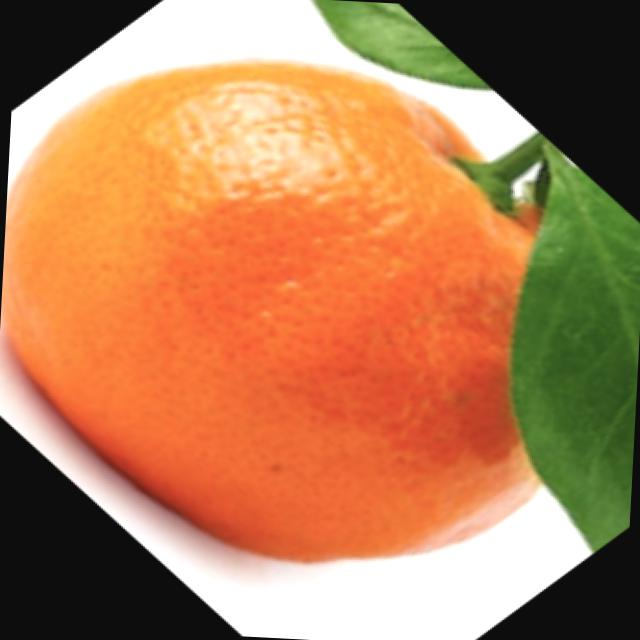orange: (0, 52, 611, 588)
